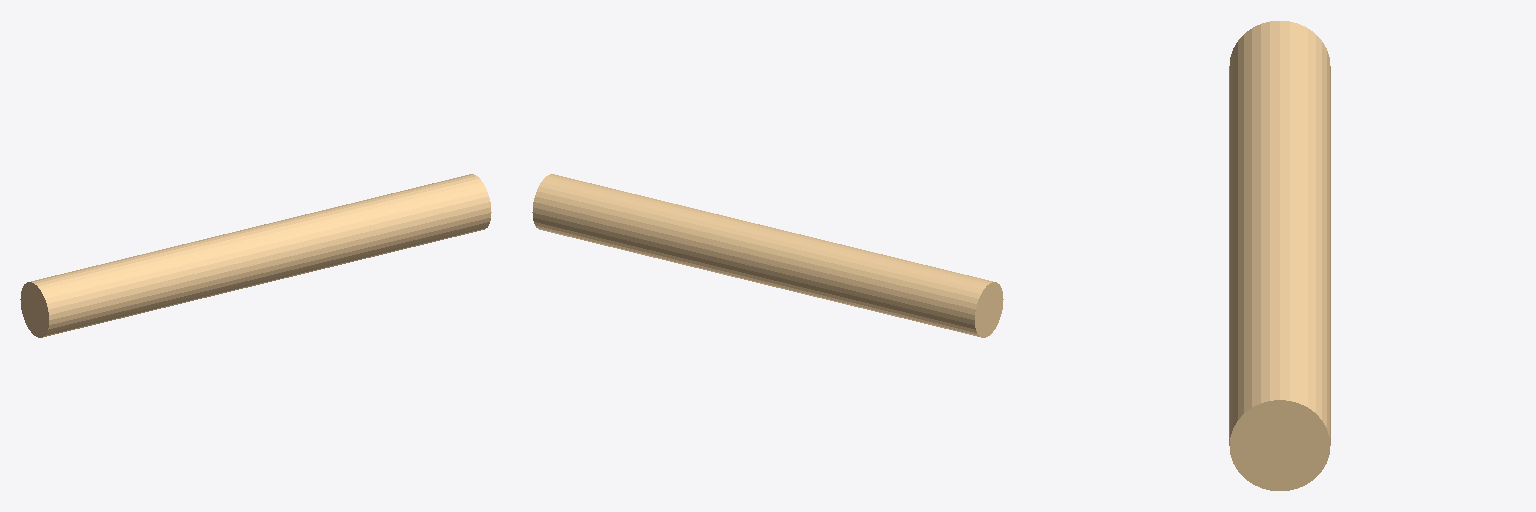
URDF robot description (model_door2):
<?xml version="1.0" encoding="utf-8"?>
<!-- This URDF was automatically created by SolidWorks to URDF Exporter! Originally created by [author] ([email redacted]) 
     Commit Version: 1.6.0-1-g15f4949  Build Version: 1.6.7594.29634
     For more information, please see http://wiki.ros.org/sw_urdf_exporter -->
<robot name="model_door2">
  <link name="base_link">
    <!-- <inertial>
      <origin
        xyz="0.60009 0.030005 1"
        rpy="0 0 0" />
      <mass
        value="143.97" />
      <inertia
        ixx="48.043"
        ixy="0.00031815"
        ixz="-6.9402E-19"
        iyy="65.274"
        iyz="-2.9364E-15"
        izz="17.317" />
    </inertial> -->
    <!-- <visual>
      <origin xyz="0 0 0" rpy="0 0 0" />
      <geometry>
        <mesh filename="package://model_door2/meshes/base_link.STL" />
      </geometry>
      <material name="Front">
        <color rgba="1 1 1 1" />
      </material>
    </visual> -->
    <!-- <collision>
      <origin xyz="0 0 0" rpy="0 0 0" />
      <geometry>
        <mesh filename="package://model_door2/meshes/base_link.STL" />
      </geometry>
    </collision> -->
  </link>
  <link name="link1">
    <inertial>
      <origin xyz="0.022886 0 0.017832" rpy="0 0 0" />
      <!-- <mass
        value="0.8344" /> -->
      <mass
        value="0.03" />
      <inertia
        ixx="0.00054037"
        ixy="-1.2285E-20"
        ixz="-0.00049637"
        iyy="0.0017352"
        iyz="-9.7971E-21"
        izz="0.0014255" />
    </inertial>
    <visual>
      <origin xyz="0.08 0.0 0.09" rpy="0 1.5708 0" />
      <geometry>
        <!-- <mesh filename="package://model_door2/meshes/link1.STL" /> -->
        <!-- <box size="0.15 0.018 0.018"/>
         -->
        <cylinder radius="0.009" length="0.16" />
      </geometry>
      <material name="Front">
        <color rgba="1 0.87 0.68 1" />
      </material>
    </visual>
    
    <collision>
      <origin xyz="0.08 0.0 0.09" rpy="0 1.5708 0" />
      <geometry>
        <!-- <mesh filename="package://model_door2/meshes/link1.STL" /> -->
        <!-- <box size="0.15 0.018 0.018"/> -->
        
        <cylinder radius="0.009" length="0.16" />
      </geometry>
    </collision>
  </link>
  <joint name="joint1" type="revolute">
    <origin xyz="0.15 0 1" rpy="1.5708 0 0" />
    <parent link="base_link" />
    <child link="link1" />
    <axis xyz="0 0 -1" />
    <limit lower="0" upper="1.047" effort="100" velocity="1" />
    <!-- <dynamics damping="0" friction="0.0"/>
     -->
    <friction>
      <ode>
        <mu>0.6</mu>  <!-- Coulomb摩擦系数 -->
        <mu2>0.6</mu2>  <!-- 第二摩擦系数 -->
        <fdir1>0 0 1</fdir1>  <!-- 摩擦方向 -->
      </ode>
    </friction>
  </joint>
</robot>

--- What the picture shows (computed from the rendered views, not written in the file) ---
Views: 3 orthographic renders of the robot side by side, from view 1: azimuth 30°, elevation 25°; view 2: azimuth 150°, elevation 25°; view 3: azimuth 270°, elevation 25°.
Robot: model_door2 — 2 links, 1 joints (1 revolute); root link base_link; default pose: all joints at 0.
Links seen in each view (by area): view 1: link1; view 2: link1; view 3: link1.
Boxes of the visible links, x1,y1,x2,y2 form: link1: [20, 174, 491, 337]; link1: [532, 174, 1003, 337]; link1: [1229, 21, 1330, 490].
Size in the robot's own frame: 0.16 by 0.018 by 0.018 metres.
Geometry: primitives only (box / cylinder / sphere), no mesh files.
